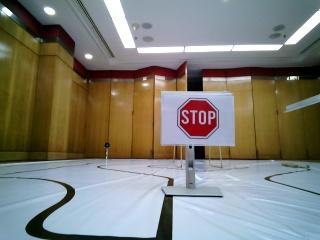stop: (169, 93, 232, 142)
